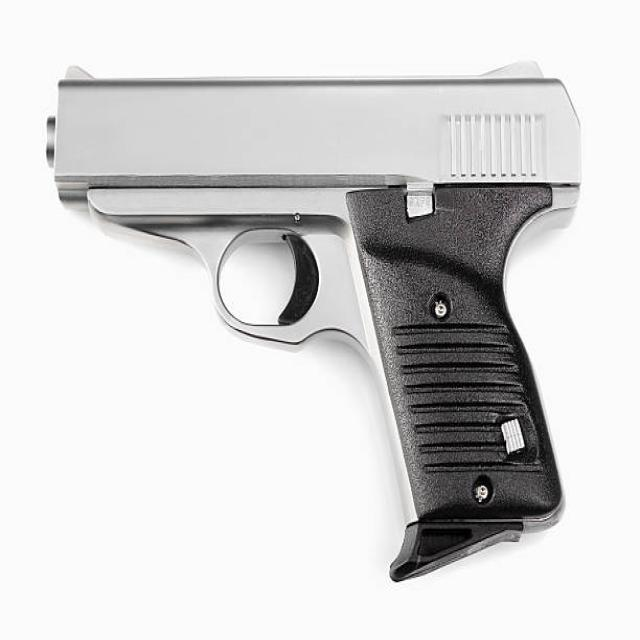pistol: (30, 55, 590, 601)
